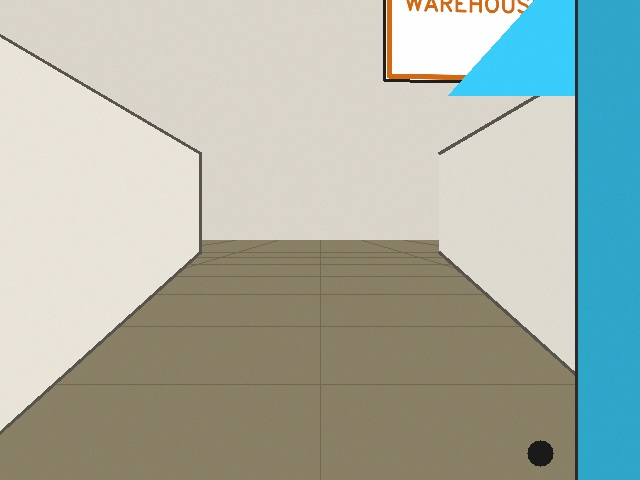cart: (448, 0, 639, 479)
directional_sign: (384, 0, 639, 85)
